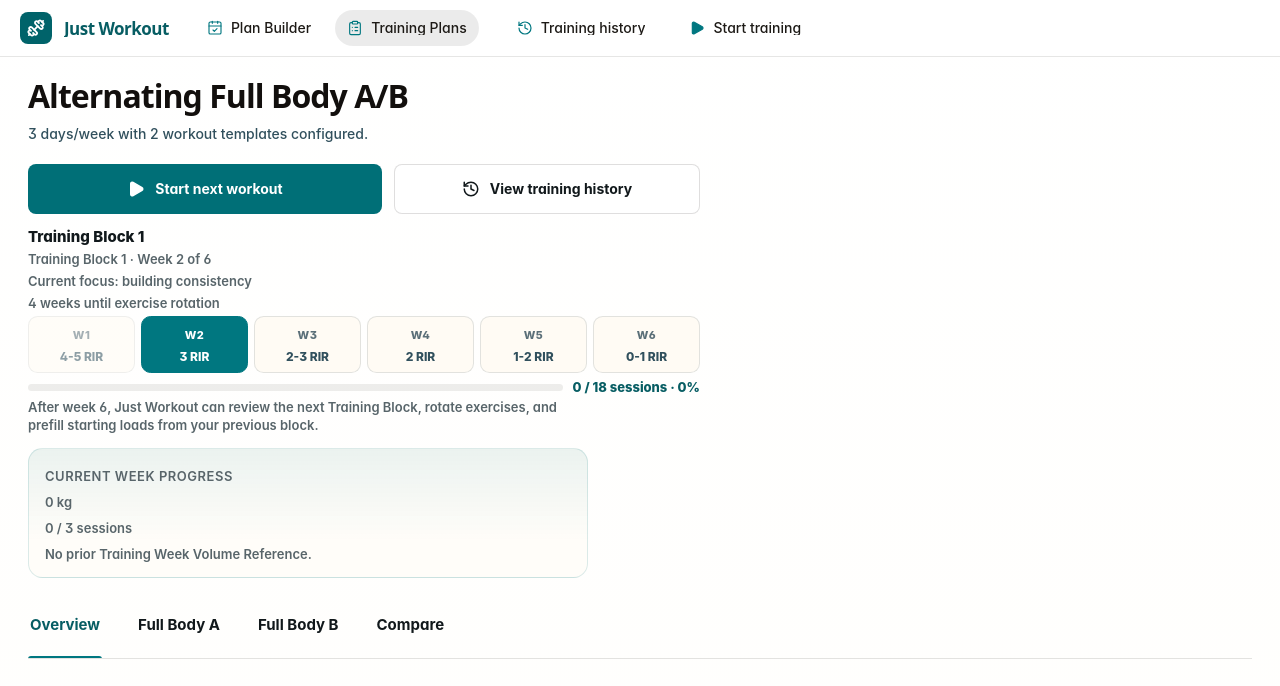
Scenario: TrainingPlanRoute › presents workout templates as a read-only blueprint without editing or tracking UI
The width and height of the screenshot is (1280, 686).
Expected: the heading "Alternating Full Body A/B" is shown, [28, 74, 408, 117]
Expected: the button "Start next workout" is shown, [28, 164, 382, 214]
Click the tab "Full Body A".
click(179, 632)  # box [136, 606, 222, 658]
(page scrolled)
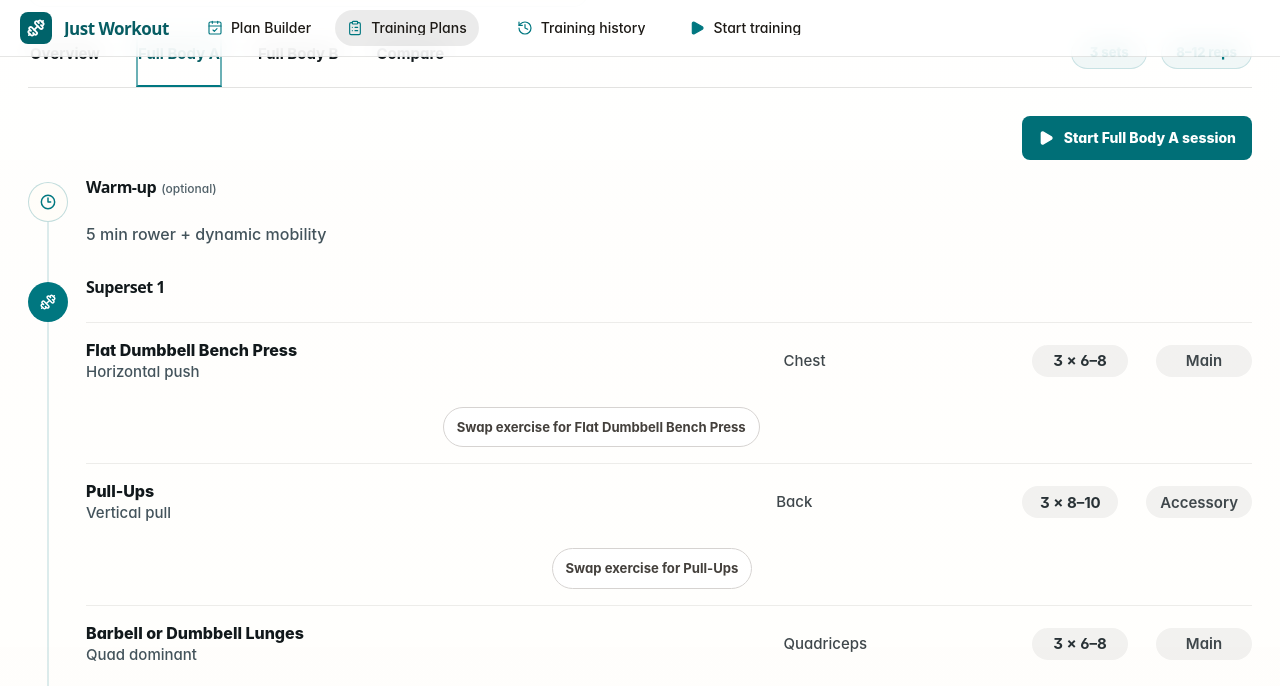
Expected: the heading "Superset 1" is shown, [86, 276, 165, 298]
Expected: the heading "Flat Dumbbell Bench Press" is shown, [86, 340, 297, 360]
Expected: the text "3 × 6–8" in the row of "Chest" is shown, [1053, 351, 1107, 370]
